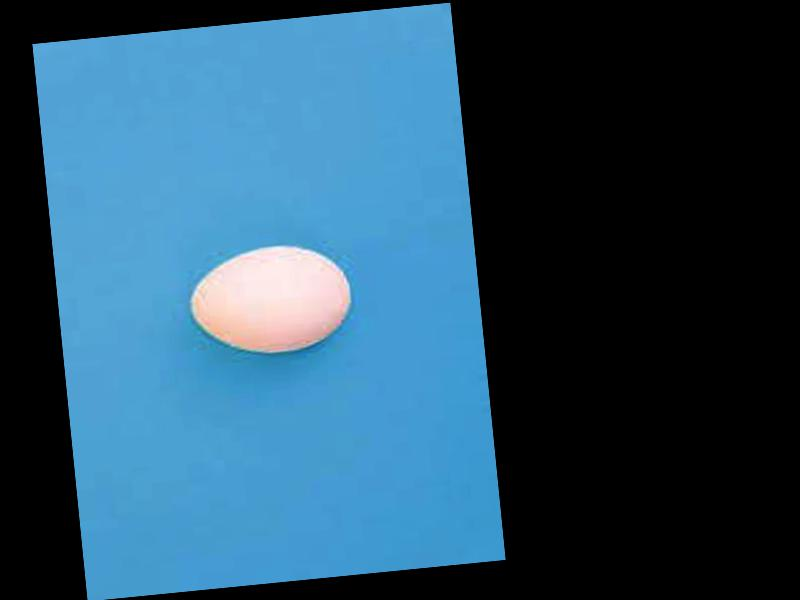Eggs: (182, 240, 355, 362)
